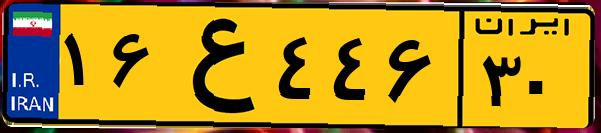0: (525, 38, 570, 115)
1: (57, 26, 110, 100)
3: (475, 38, 525, 113)
4: (270, 28, 330, 110), (330, 28, 385, 110)
6: (385, 28, 445, 110), (110, 28, 158, 98)
ع: (158, 12, 270, 120)
